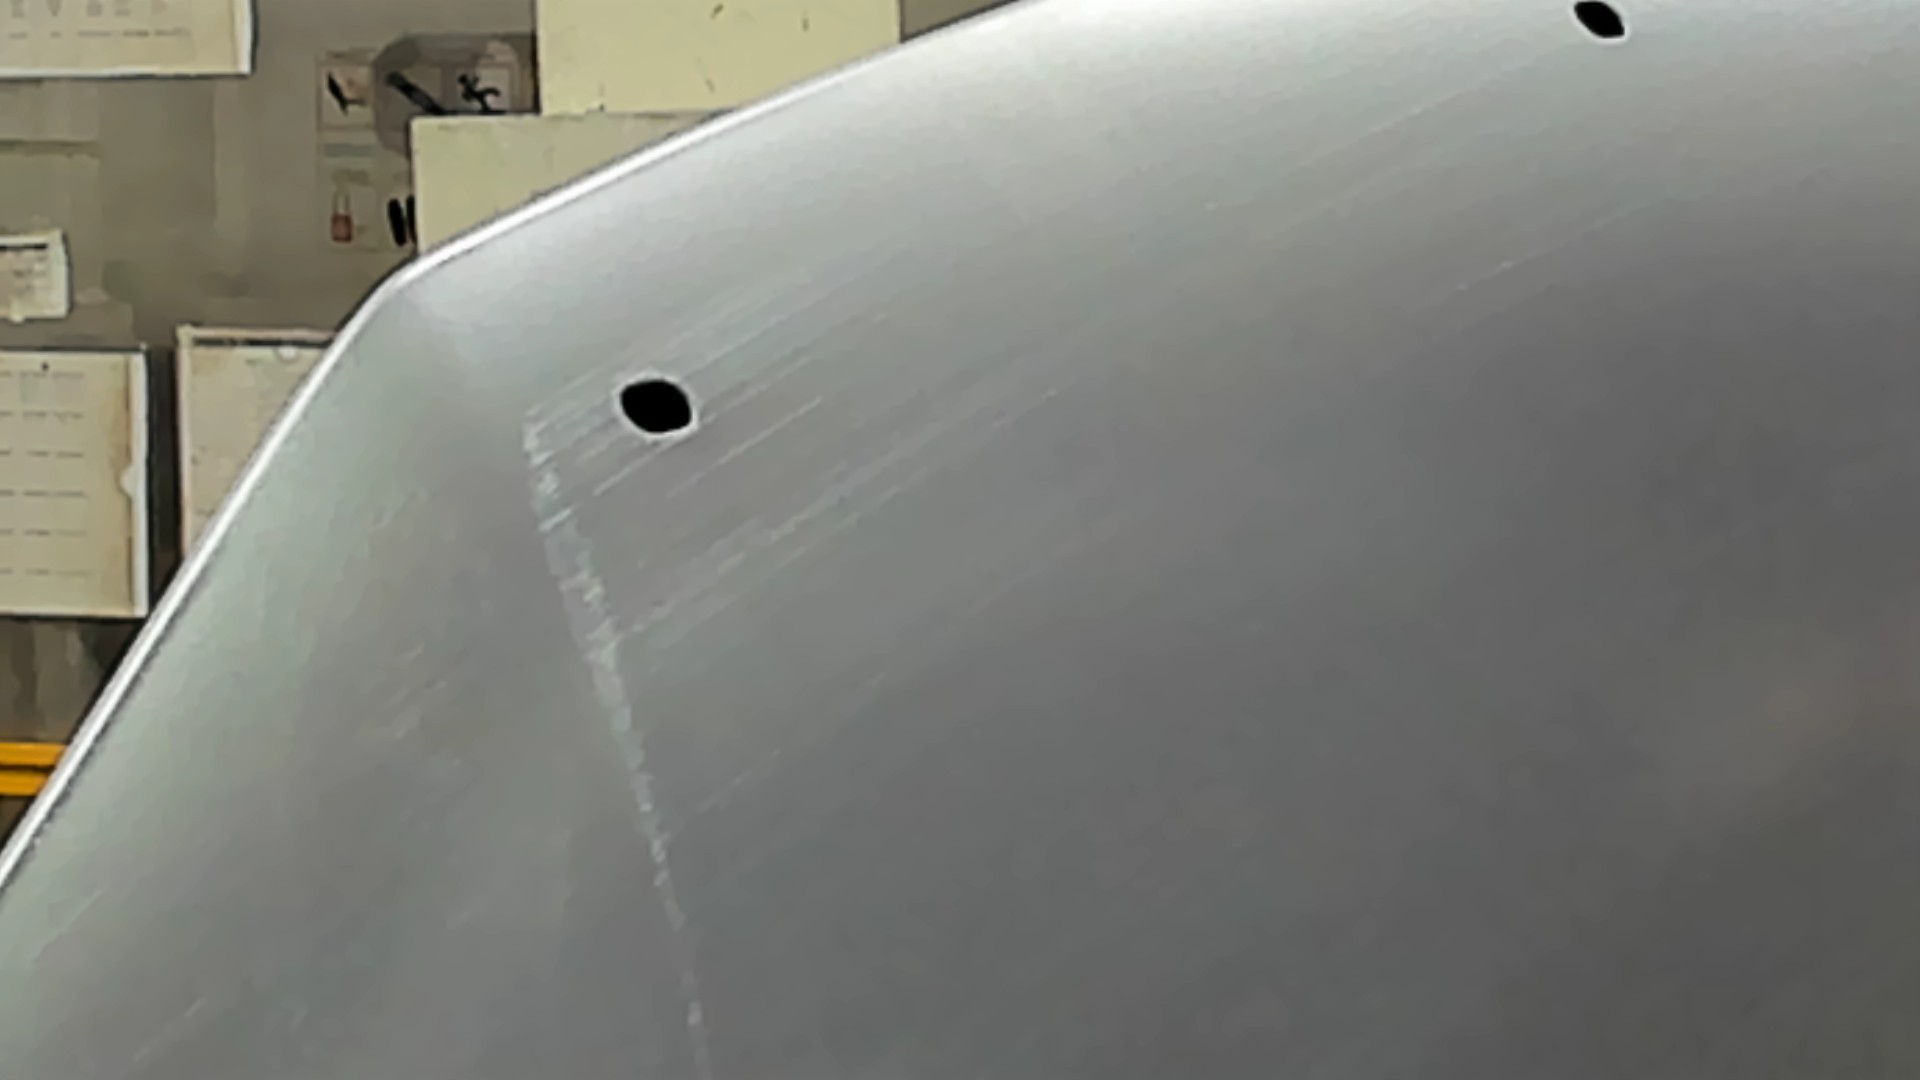amorfo: (611, 369, 709, 446), (1563, 1, 1639, 46)
capo: (799, 123, 1920, 1080)
